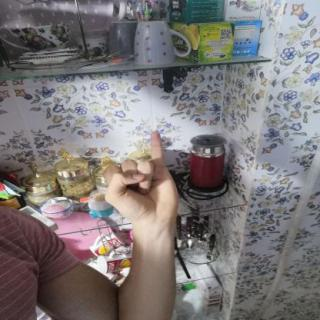MEEM: (91, 124, 187, 226)
